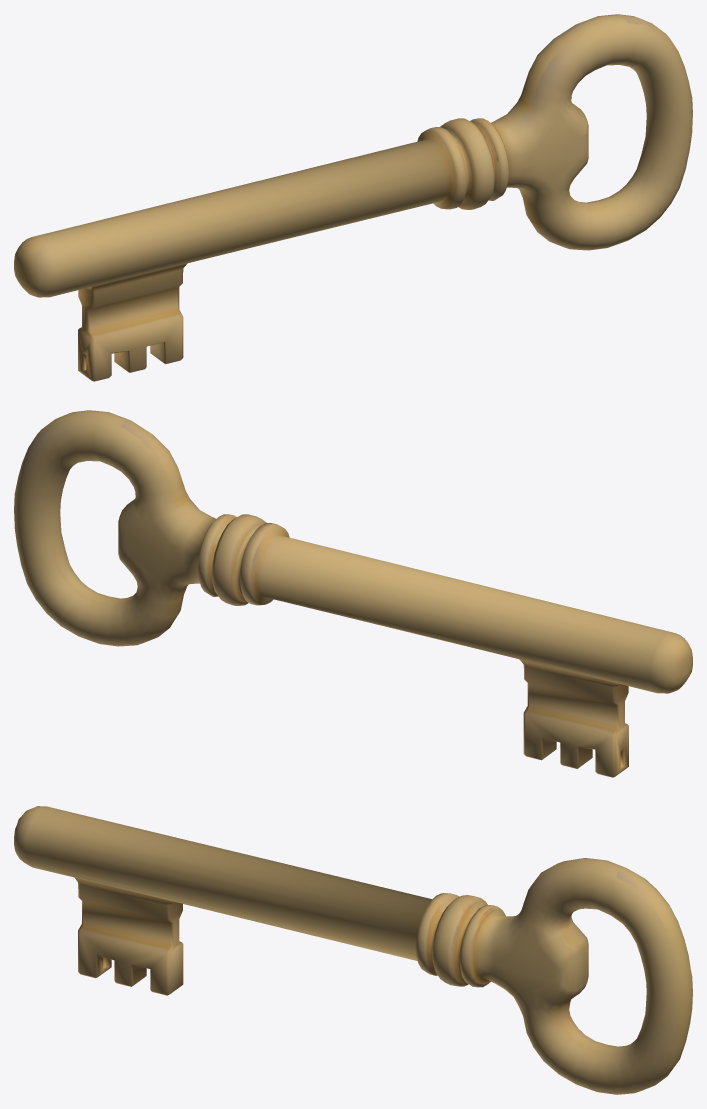
Rendered from Key.fbx.
The picture shows the model from 3 angles, top to bottom: view 1: azimuth 30°, elevation 25°; view 2: azimuth 150°, elevation 25°; view 3: azimuth 330°, elevation 25°; orthographic projection.
Parts seen in each view (by area): view 1: texture_pbr_v128.001; view 2: texture_pbr_v128.001; view 3: texture_pbr_v128.001.
Boxes of the visible parts, x1,y1,x2,y2 form: texture_pbr_v128.001: (14,14,692,381); texture_pbr_v128.001: (14,410,692,777); texture_pbr_v128.001: (14,806,692,1094).
Size of the model in its own units: 120 by 40.05 by 14.42.
1 material, 1 textured.
